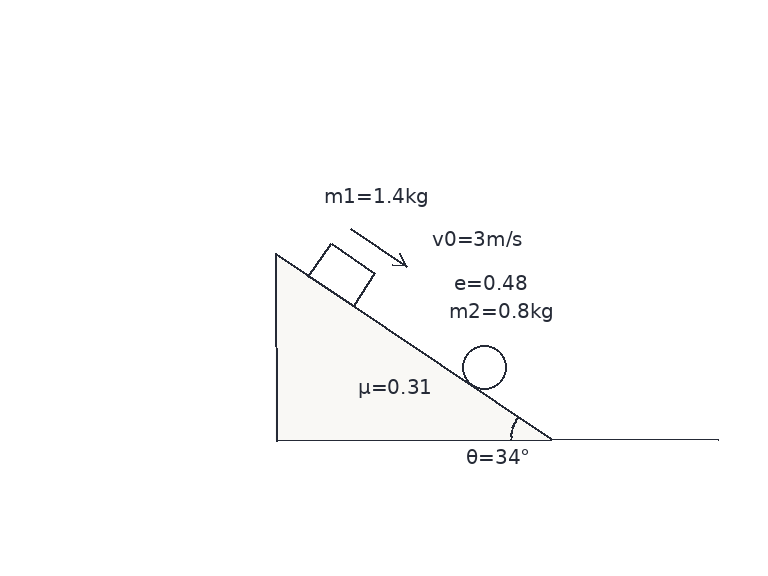ball: (460, 343, 508, 391)
block: (307, 241, 377, 308)
ramp: (274, 251, 553, 441)
